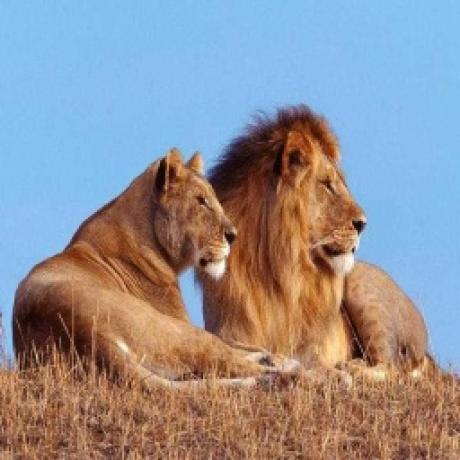Lion: (11, 144, 281, 399), (204, 101, 437, 379)
